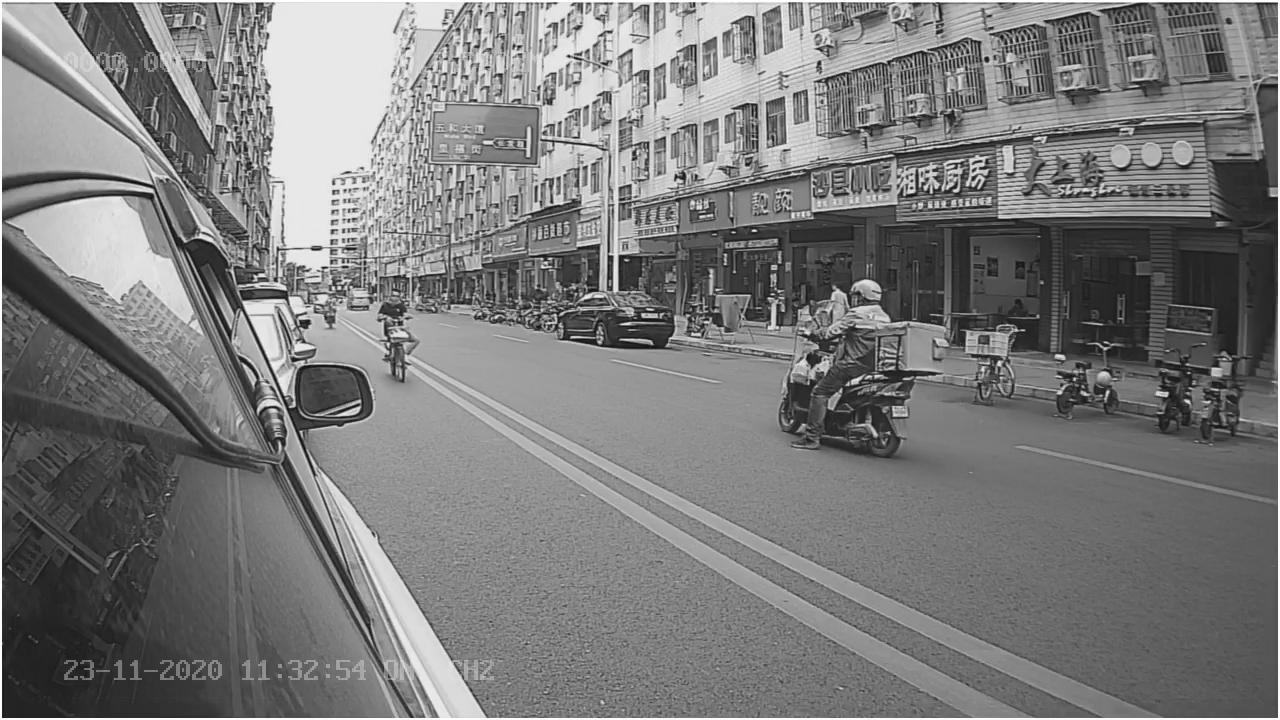person: (817, 275, 879, 363)
